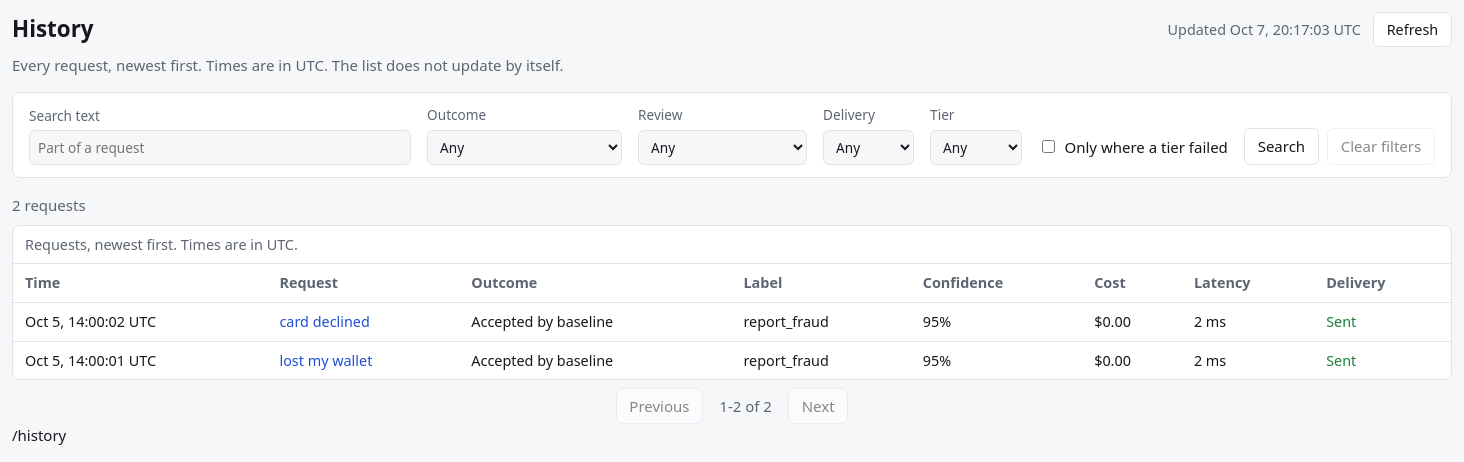
Test case: filters › searches on Enter
Expected: the text "2 requests" is shown, [12, 195, 86, 215]
Type "WALLET" into the search field labelled "Search text" at (220, 148), box [29, 130, 411, 165]
Then press Enter
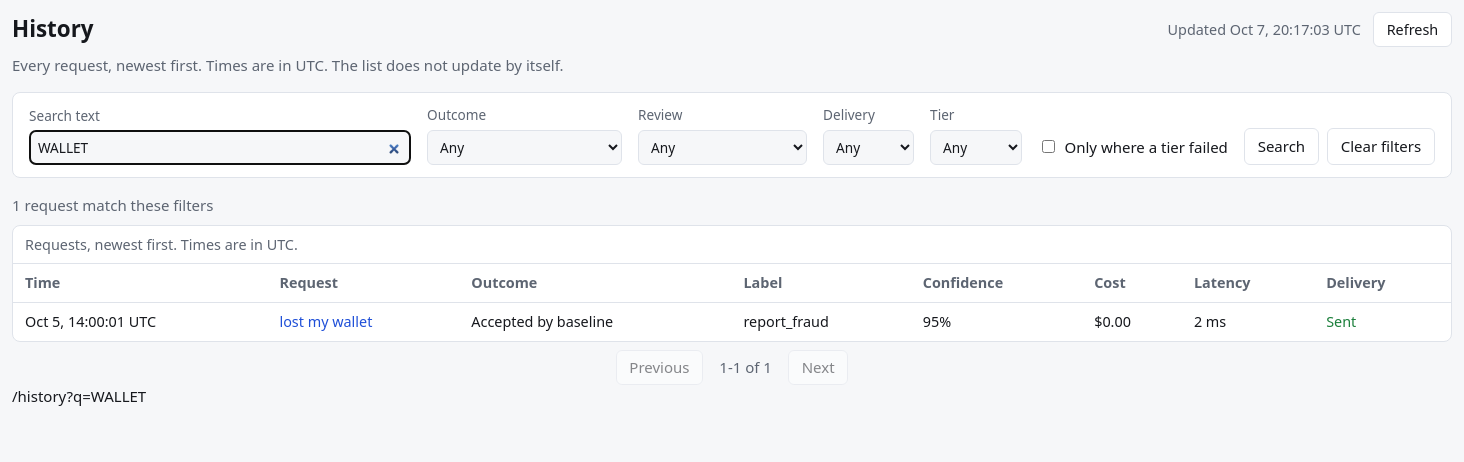
Now the text "1 request match these filters" is shown, box [12, 195, 213, 215]
Now the text named "Address" reads "/history?q=WALLET", box [12, 386, 146, 406]
